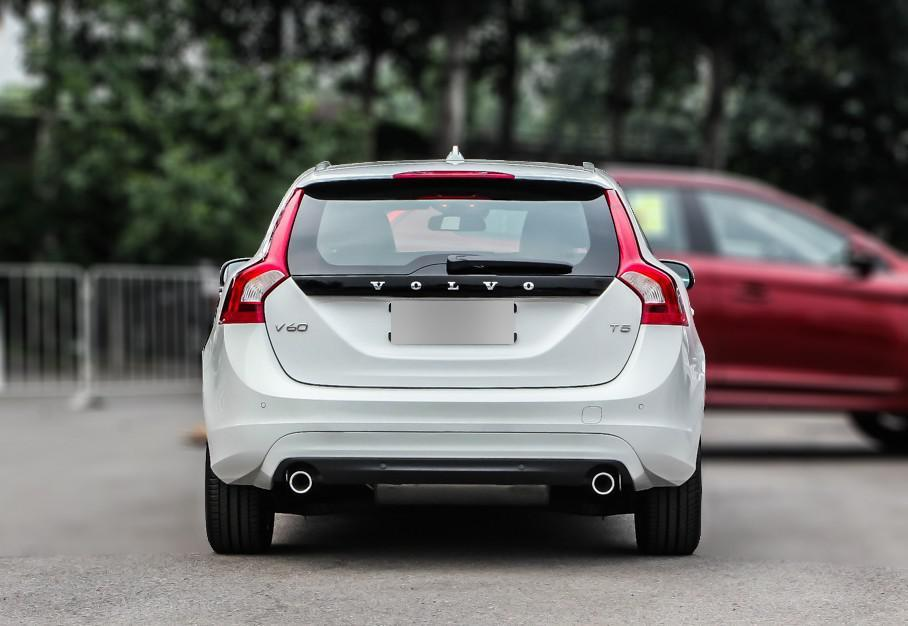Wagon: (202, 146, 706, 556)
